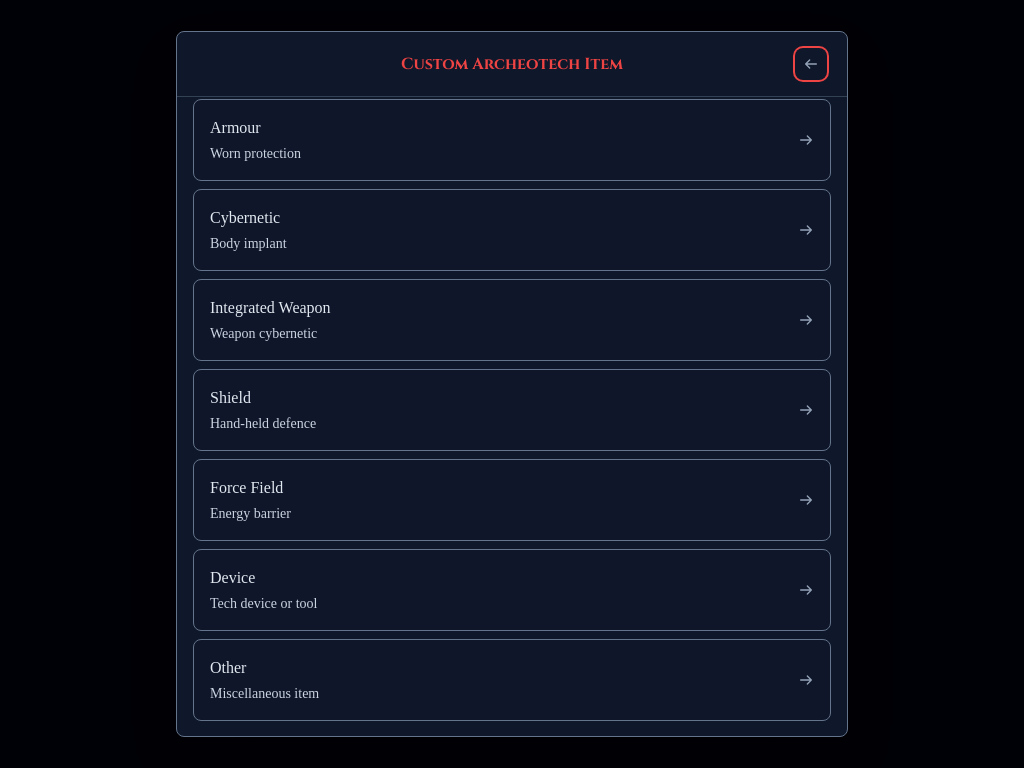
Test: ArcheotechTab CustomArcheotechForm › shows the type picker first and moves to the details form on selecting a type
(page scrolled)
Step 1. Click the text "Device" → click(233, 578), box [210,566,255,590]
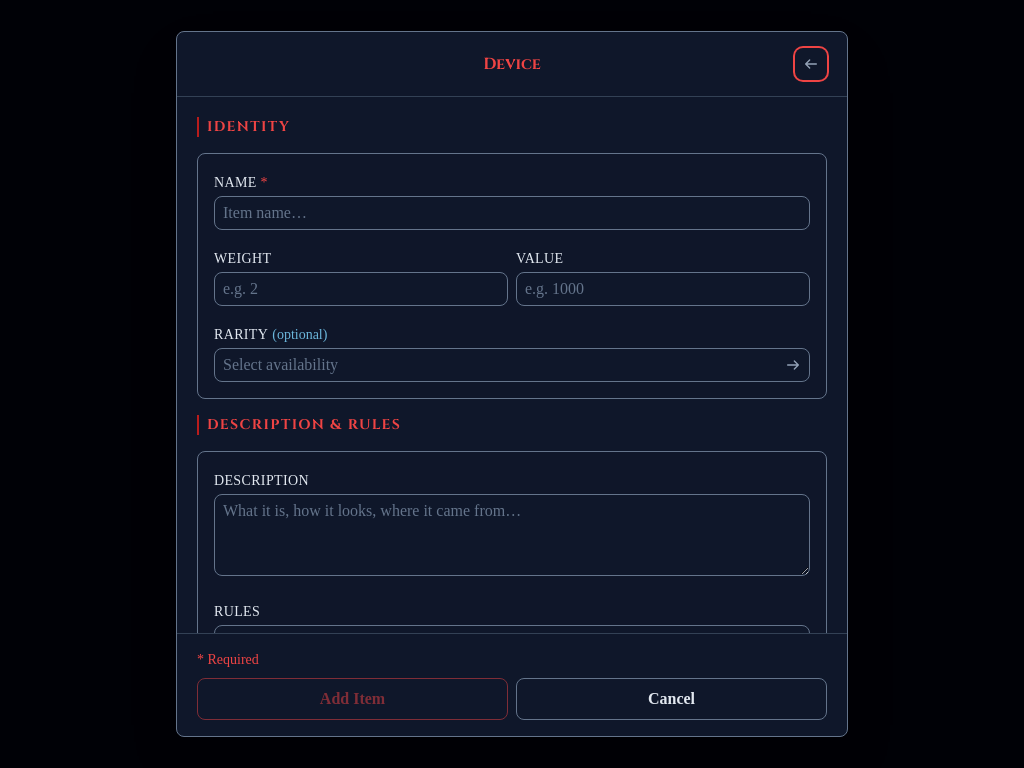
Now the field with placeholder "Item name…" is shown, box [214,196,810,230]
